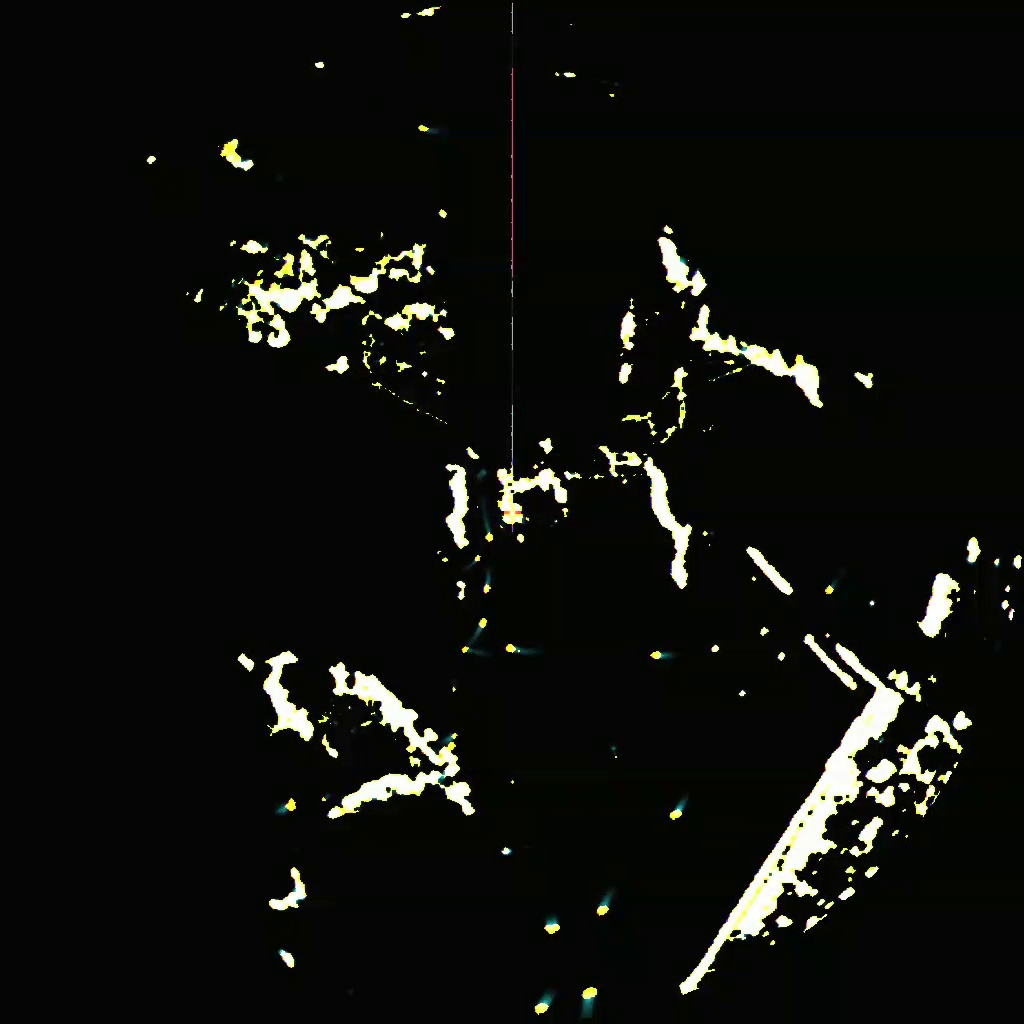B: (468, 615, 490, 644), (581, 986, 597, 1019), (276, 796, 296, 817), (669, 798, 686, 822), (542, 915, 560, 937), (483, 505, 493, 544), (503, 644, 533, 657), (460, 643, 487, 657), (597, 894, 613, 917), (535, 994, 552, 1015), (650, 650, 676, 660), (480, 572, 491, 593), (467, 554, 482, 569), (825, 582, 835, 595)
